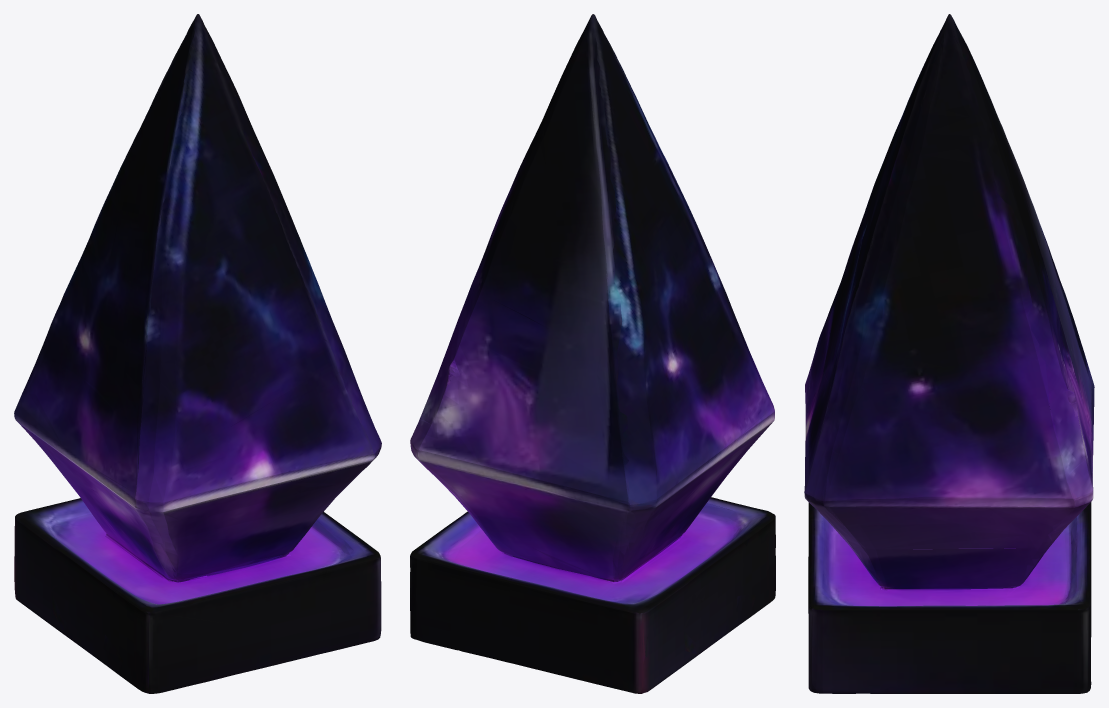
File: prop_rift_obelisk.glb
3 views of the same model, side by side, from view 1: azimuth 30°, elevation 25°; view 2: azimuth 150°, elevation 25°; view 3: azimuth 270°, elevation 25° (orthographic). The views are drawn at different scales.
Parts seen in each view (by area): view 1: geometry_0; view 2: geometry_0; view 3: geometry_0.
Part boxes in pixels (<box>): geometry_0: <box>14,14,381,693</box>; geometry_0: <box>410,14,775,693</box>; geometry_0: <box>804,14,1094,693</box>.
Bounding box in the file's own units: 0.4277 × 1 × 0.424.
Materials: 1 (1 with a texture image).
